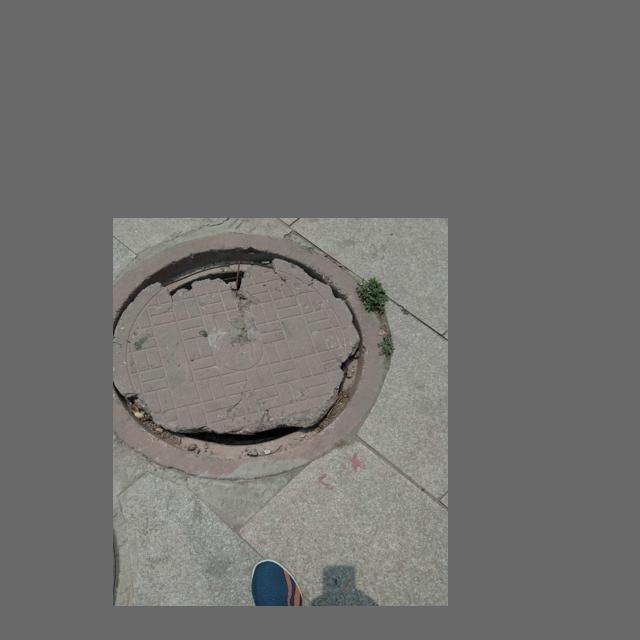broke: (112, 232, 382, 477)
